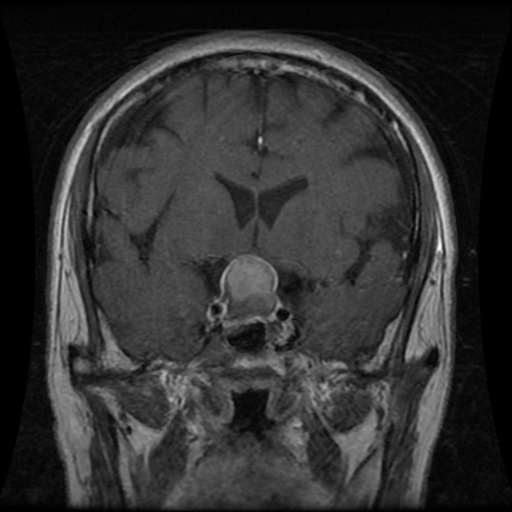pituitary: (222, 252, 279, 324)
